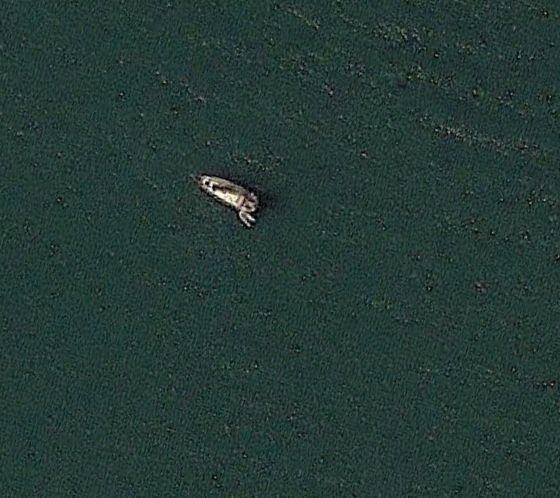boat: (190, 172, 262, 215)
